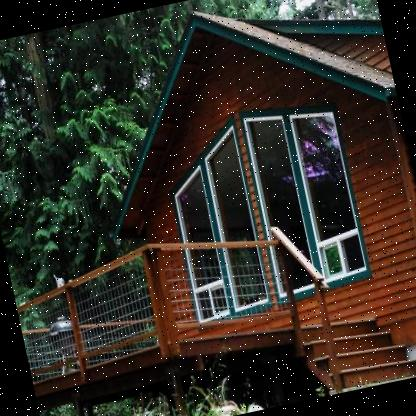stair: (288, 295, 416, 400)
